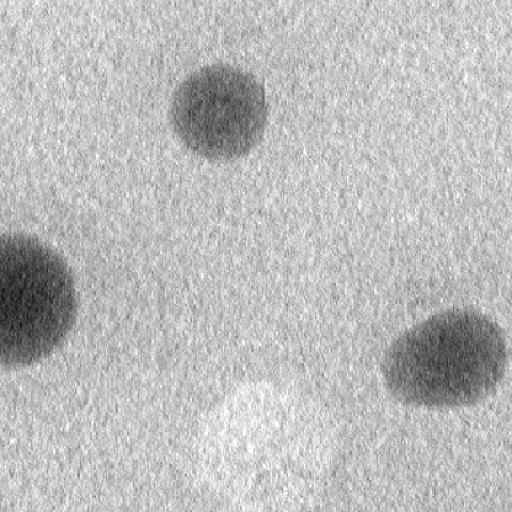Nanoparticles: (382, 307, 508, 405), (0, 230, 78, 372), (172, 64, 270, 160)
